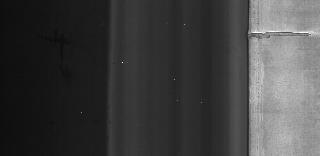scratches: (245, 27, 317, 45)
